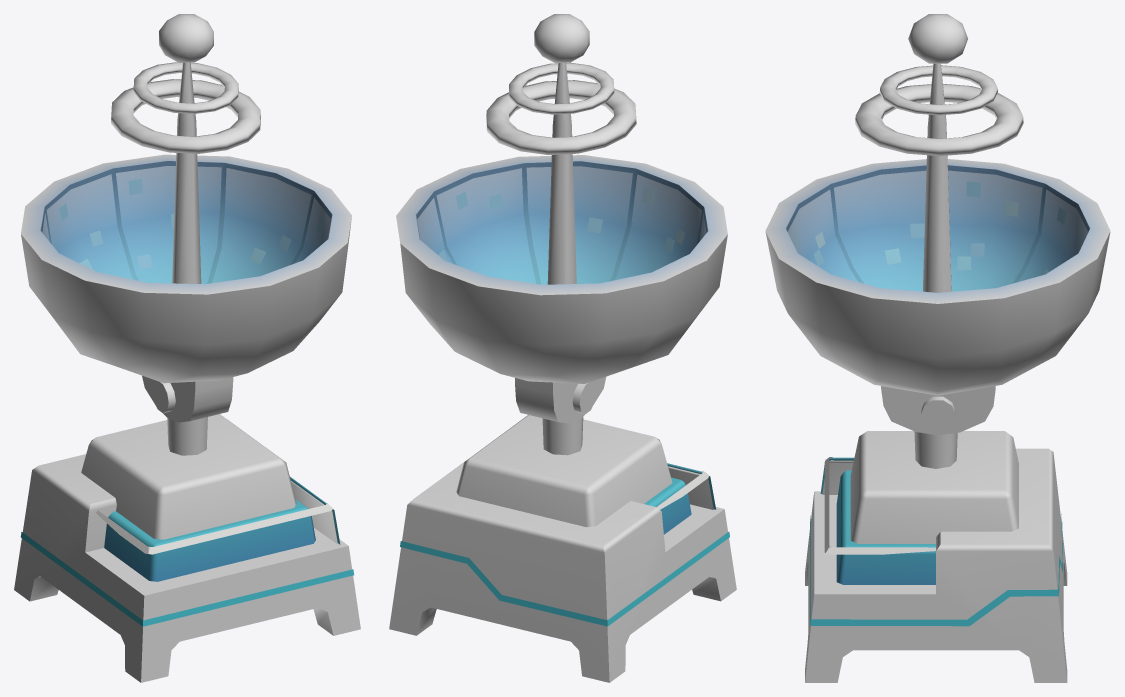
File: epfSatelliteDish.glb
The picture shows the model from 3 angles, left to right: view 1: azimuth 30°, elevation 25°; view 2: azimuth 150°, elevation 25°; view 3: azimuth 270°, elevation 25°; orthographic projection. The views are drawn at different scales.
Visible parts, largest first — view 1: epfSatelliteDish; view 2: epfSatelliteDish; view 3: epfSatelliteDish.
Boxes of the visible parts, box(x1,y1,x2,y2) form: epfSatelliteDish: box(14, 14, 360, 682); epfSatelliteDish: box(389, 14, 736, 682); epfSatelliteDish: box(765, 14, 1110, 682).
Size of the model in its own units: 0.5626 by 1.1 by 0.5626.
